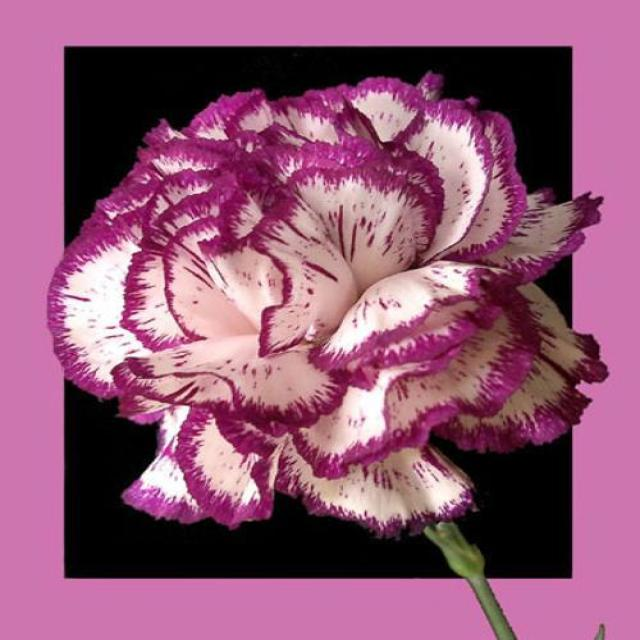carnation: (62, 60, 584, 582)
